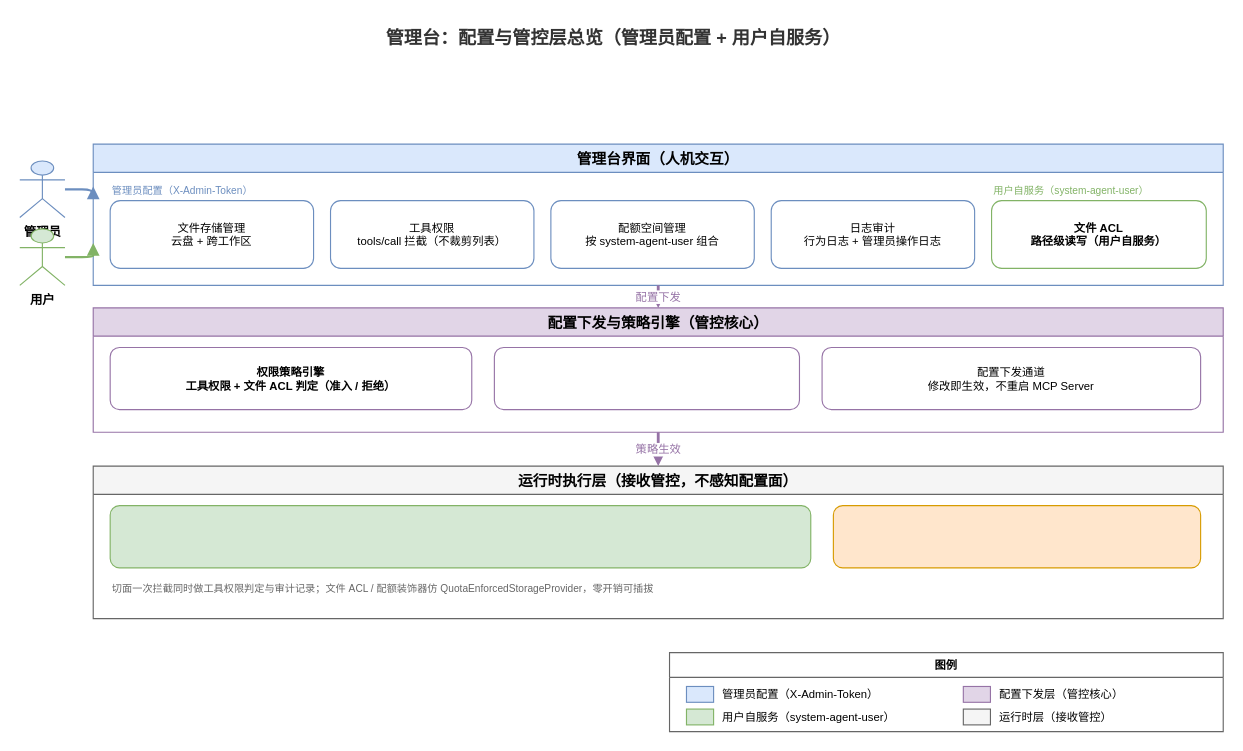
Image size: 1243x751. Some labels were removed from this diagram. The shapes that lost their labels are listed below. From the top down, each one's centre as x and y in pixels, then its label:
At (646,378): "配额管理器 按工作区统计，配额告警触发".
At (460,536): "文件工具链 工作区隔离 → [切面]工具权限+审计 → [装饰器]文件ACL → [装饰器]配额 → OSS".
At (1016,536): "中继工具链 [切面]工具权限+审计 → 沙箱容器".
